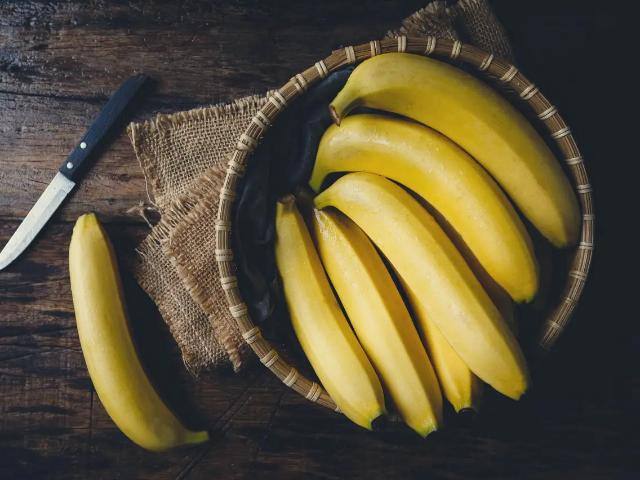Bananas: (273, 55, 577, 438), (69, 212, 209, 454), (276, 202, 384, 436)
